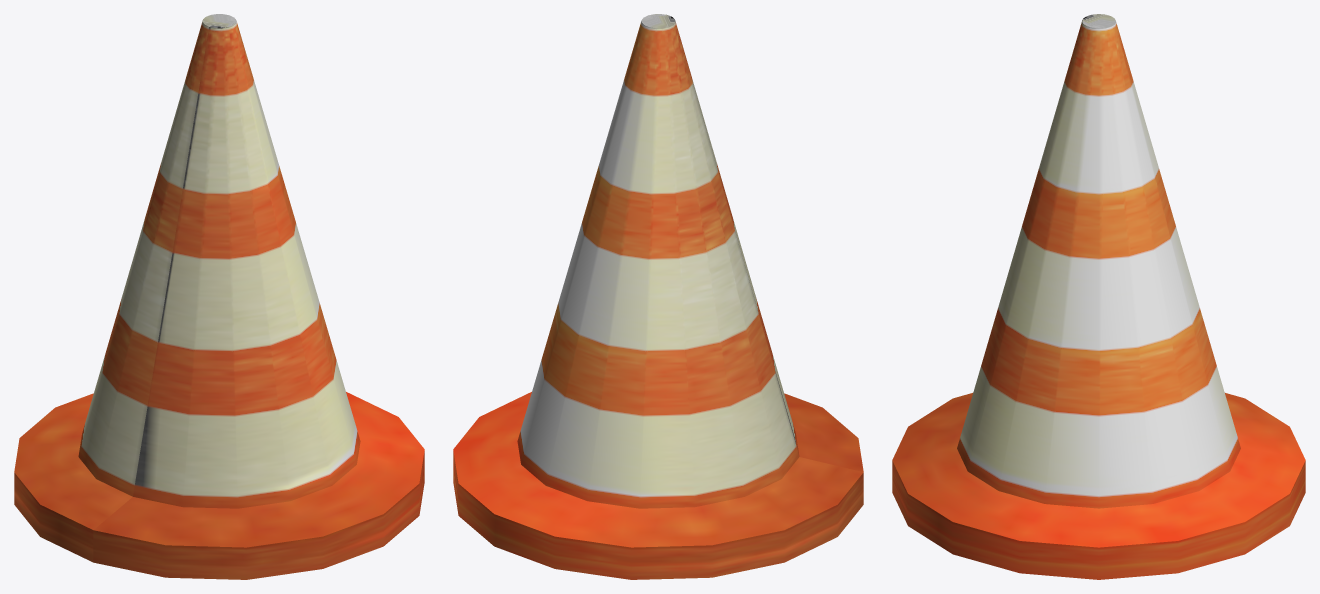
The model's file is sanjiaozui.FBX.
3 views of the same model, side by side, from view 1: azimuth 30°, elevation 25°; view 2: azimuth 150°, elevation 25°; view 3: azimuth 270°, elevation 25° (orthographic).
Visible parts, largest first — view 1: Cylinder003; view 2: Cylinder003; view 3: Cylinder003.
Boxes of the visible parts, x1,y1,x2,y2 form: Cylinder003: [14, 14, 424, 579]; Cylinder003: [453, 14, 863, 579]; Cylinder003: [892, 14, 1305, 579].
Bounding box in the file's own units: 26.84 × 33.77 × 26.84.
